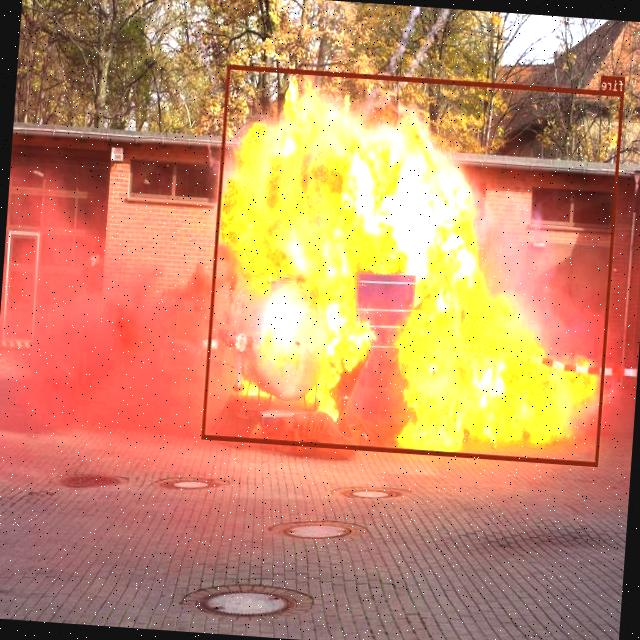fire: (202, 64, 624, 465)
